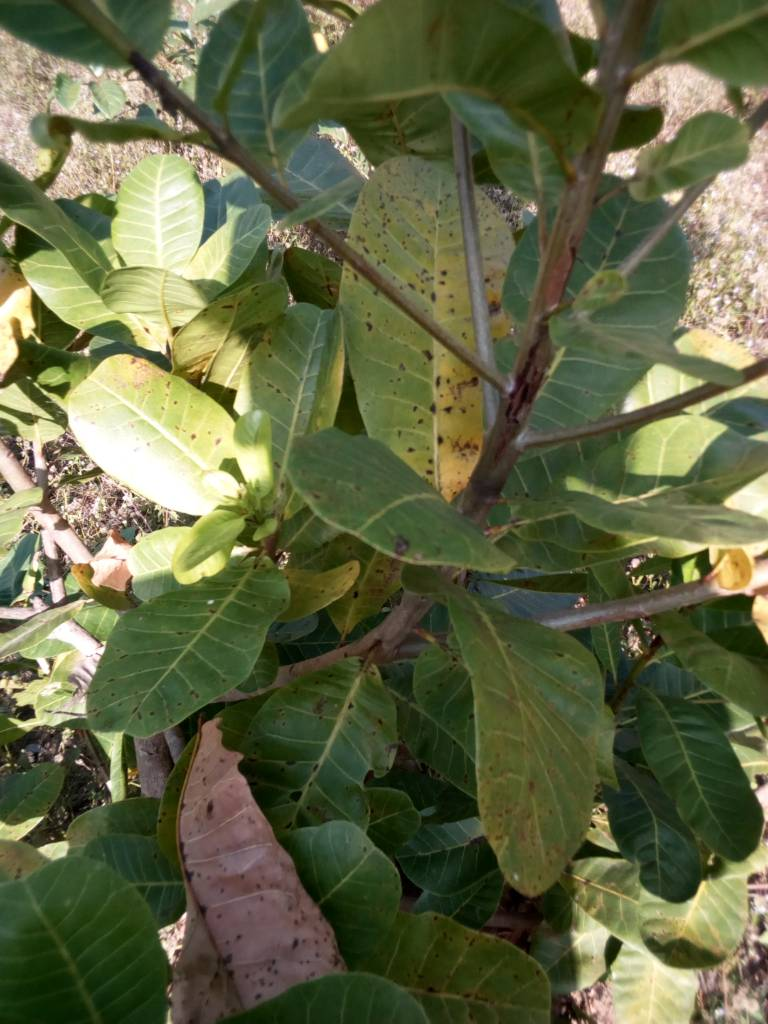Anthracnose: (343, 153, 508, 489), (458, 594, 602, 899), (85, 564, 271, 732), (63, 352, 249, 502), (394, 916, 549, 1024)
